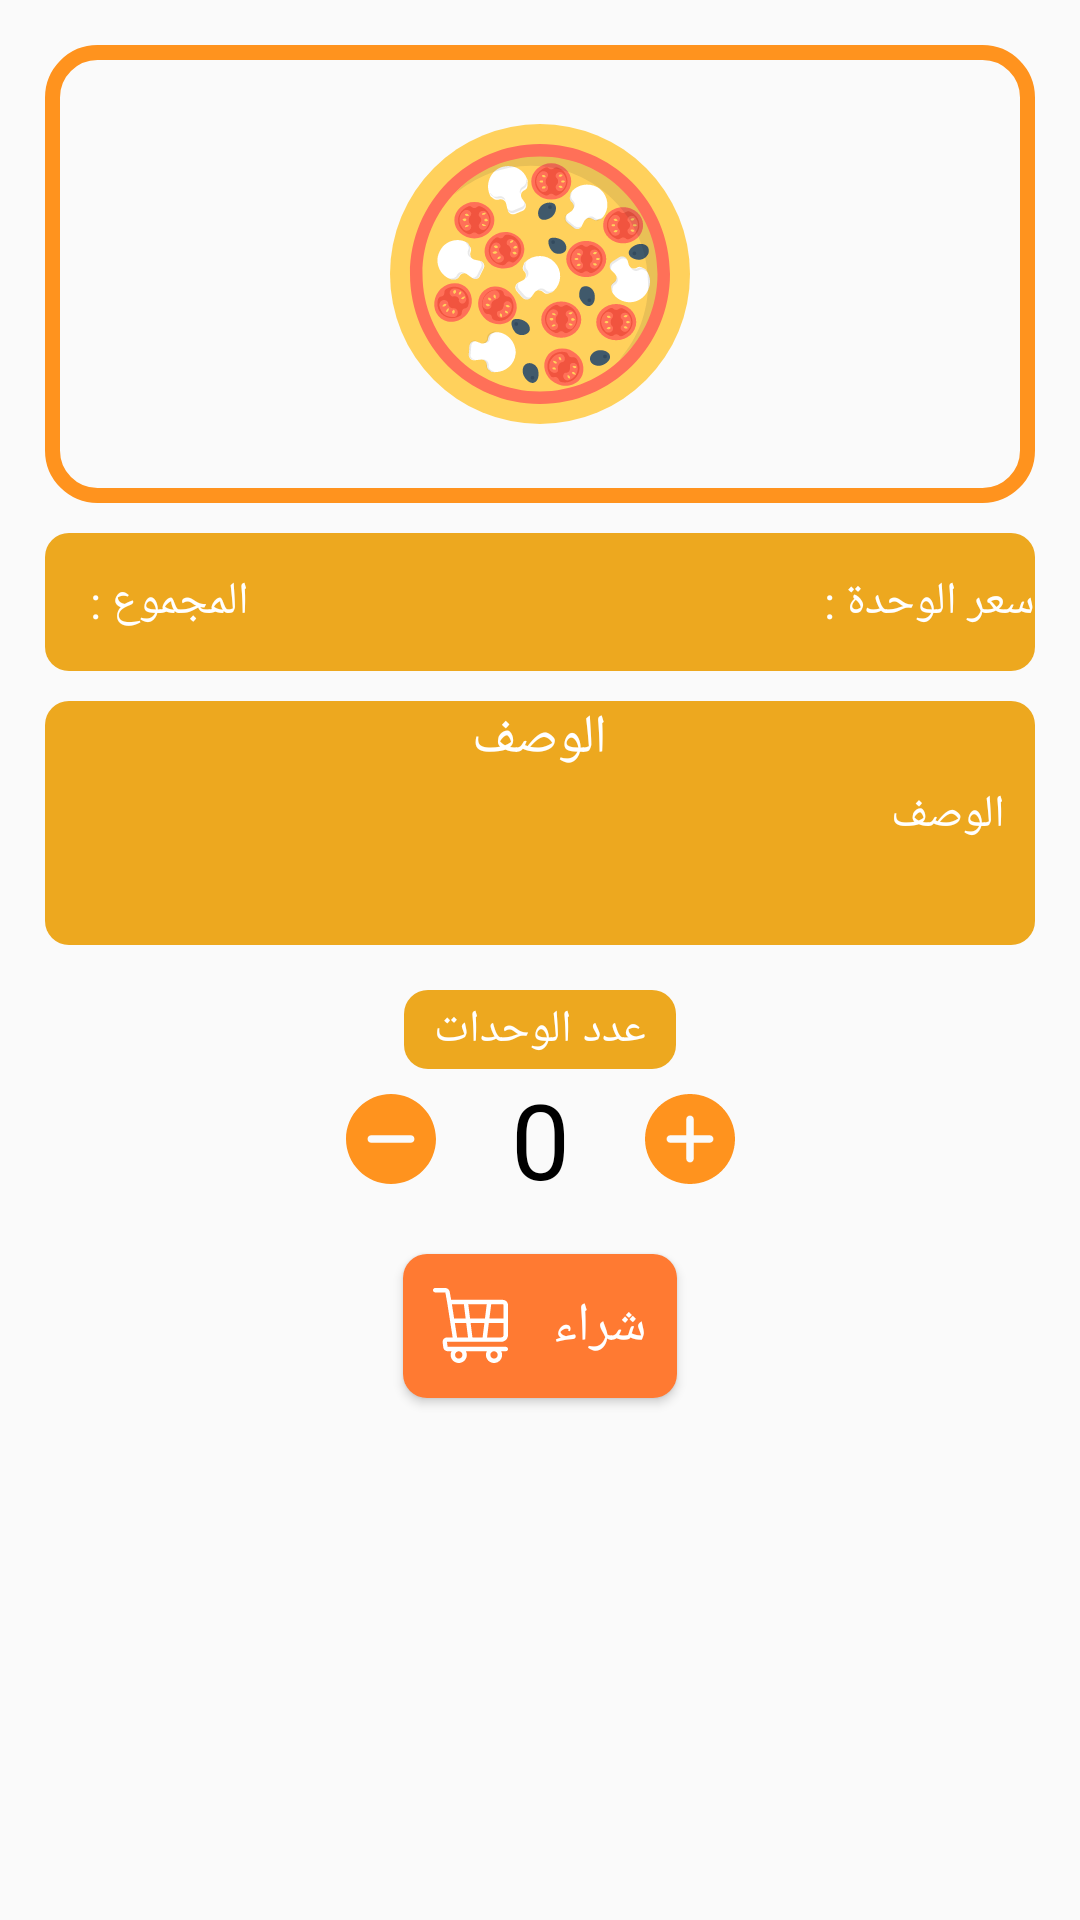

Icon bounding boxes for this 1080w x 1920h phone screenshot, format (x1, y1, x2, y2):
minus: (346, 1094, 436, 1184)
plus: (645, 1094, 735, 1184)
